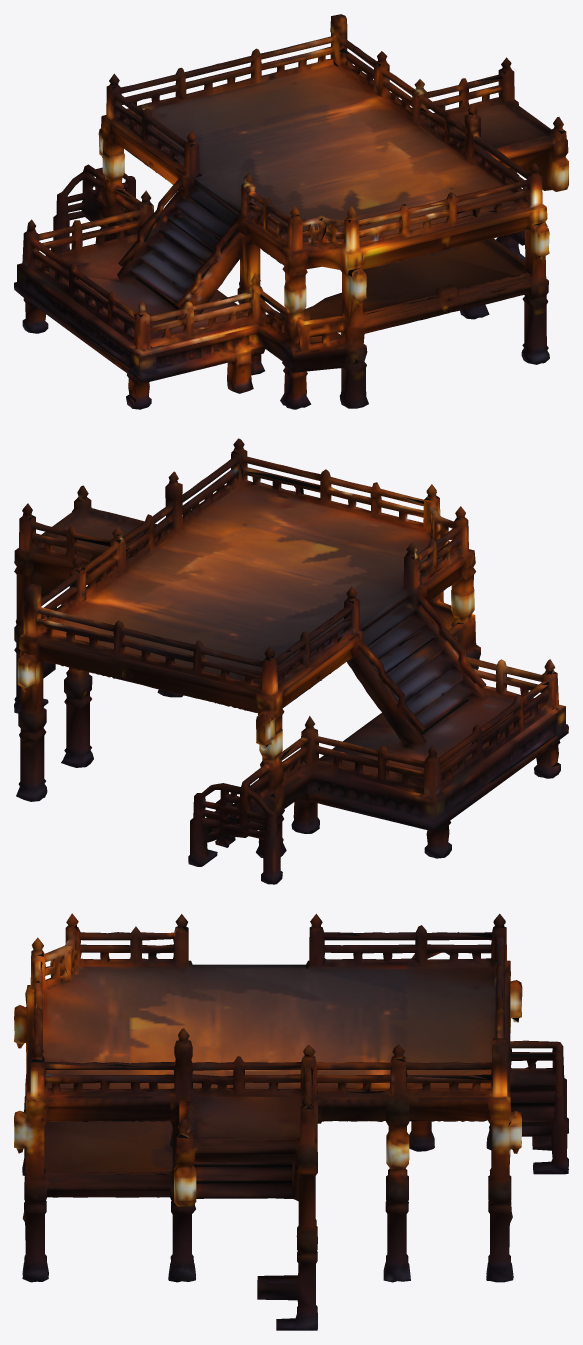
The model's file is DoubleStaresBase_LOD2.fbx.
The picture shows the model from 3 angles, top to bottom: view 1: azimuth 30°, elevation 25°; view 2: azimuth 150°, elevation 25°; view 3: azimuth 270°, elevation 25°; orthographic projection. The views are drawn at different scales.
Visible parts, largest first — view 1: node_0.001; view 2: node_0.001; view 3: node_0.001.
Boxes of the visible parts, x1,y1,x2,y2 form: node_0.001: (14,14,568,409); node_0.001: (14,438,568,884); node_0.001: (14,913,568,1330).
Size of the model in its own units: 101 by 45.61 by 92.1.
Materials: 1 (1 with a texture image).
